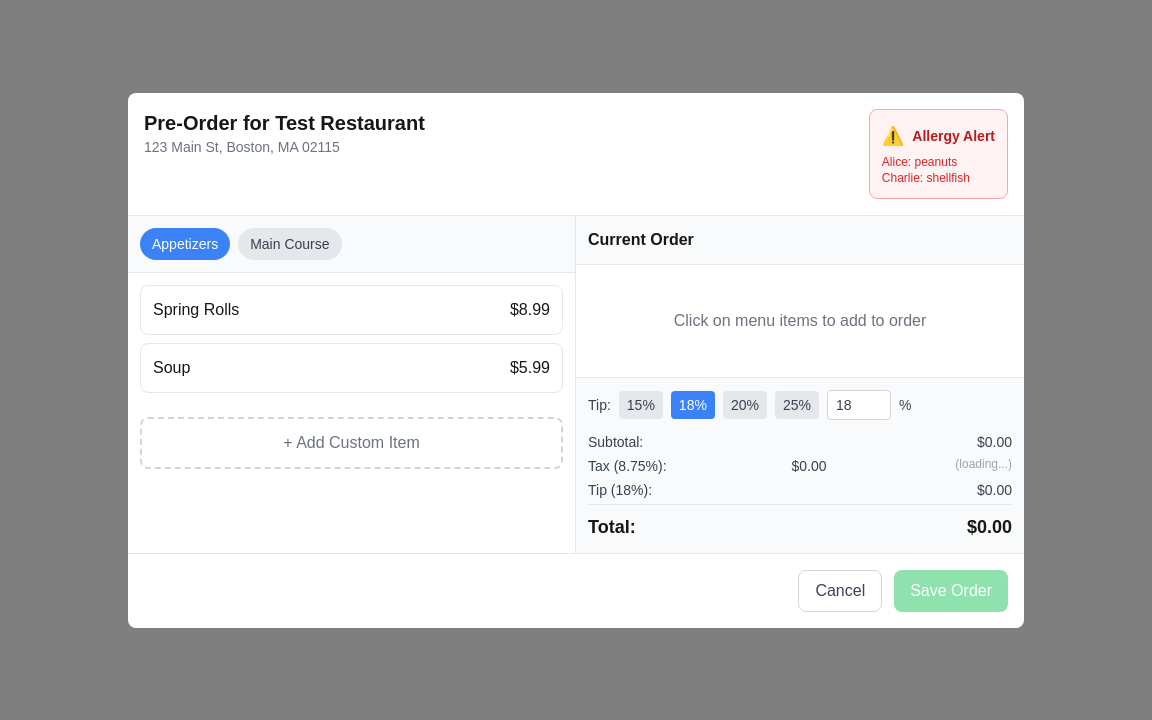
PreOrder › switches menu category when clicked
The width and height of the screenshot is (1152, 720).
Click the button "Main Course". click: [290, 244]
box: [238,228,342,260]
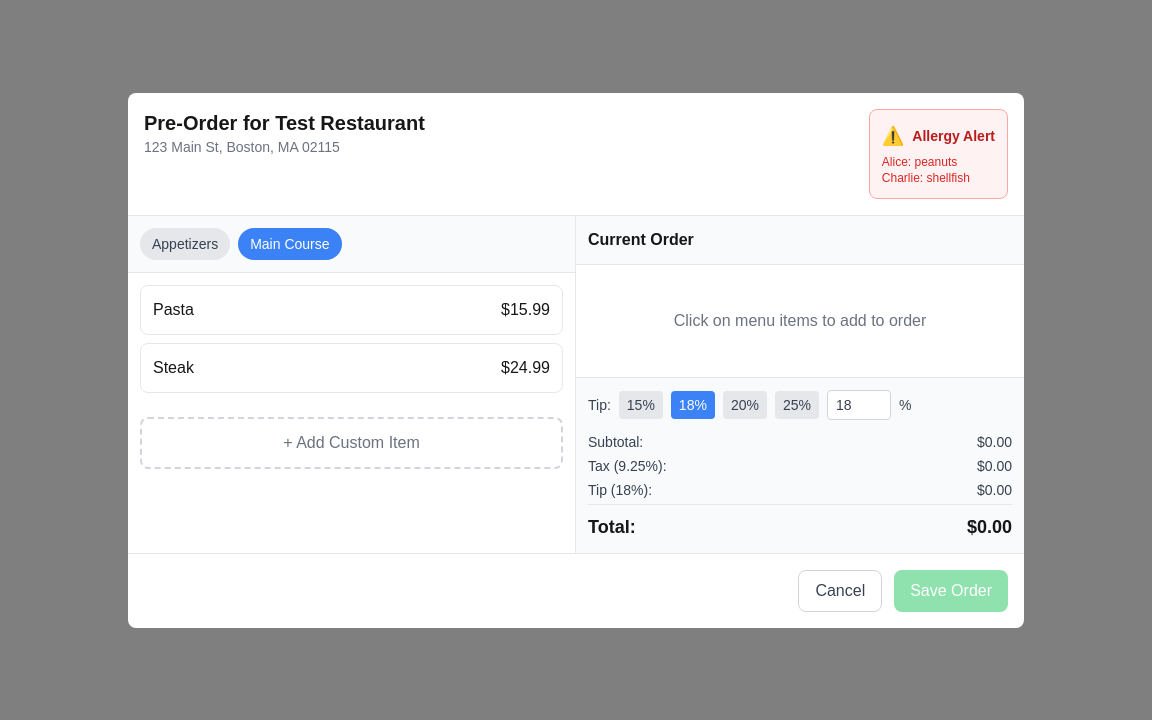
Expected: the text "Pasta" is shown, [153,298,194,322]
Expected: the text "$15.99" is shown, [501,298,550,322]
Expected: the text "Steak" is shown, [153,356,194,380]
